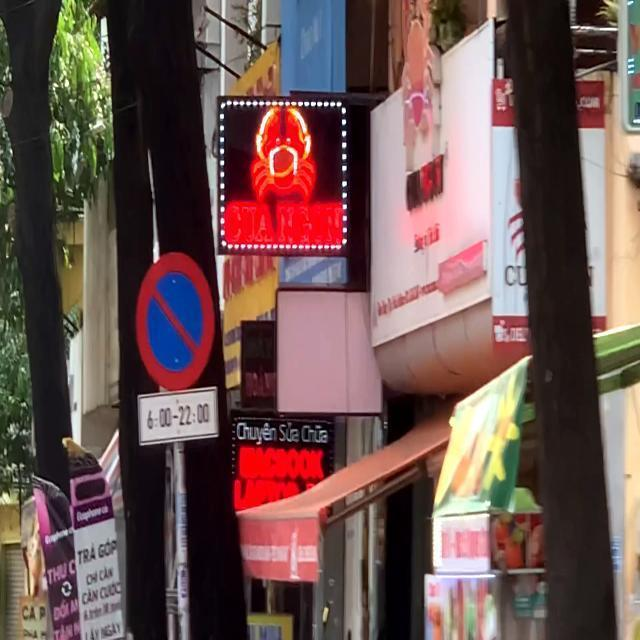131a-cam-do-xe: (137, 252, 219, 384)
